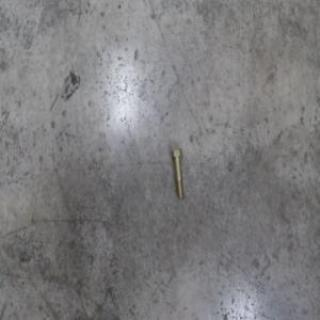Bolttrack_idkeyframe: (169, 146, 183, 198)
